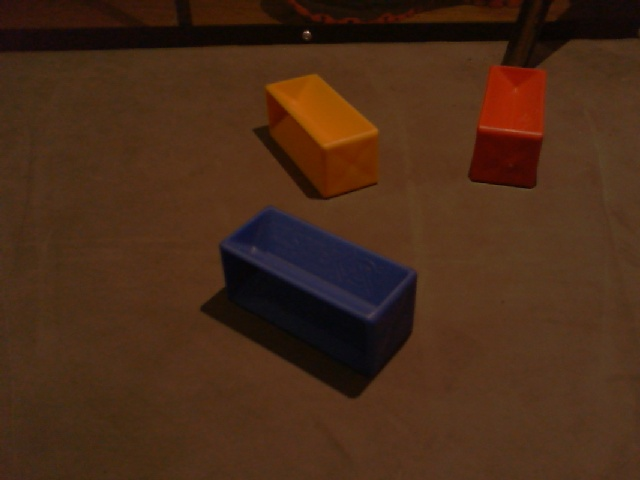BlueSample: (219, 205, 418, 376)
RedSample: (468, 62, 552, 190)
YellowSample: (262, 71, 380, 199)
